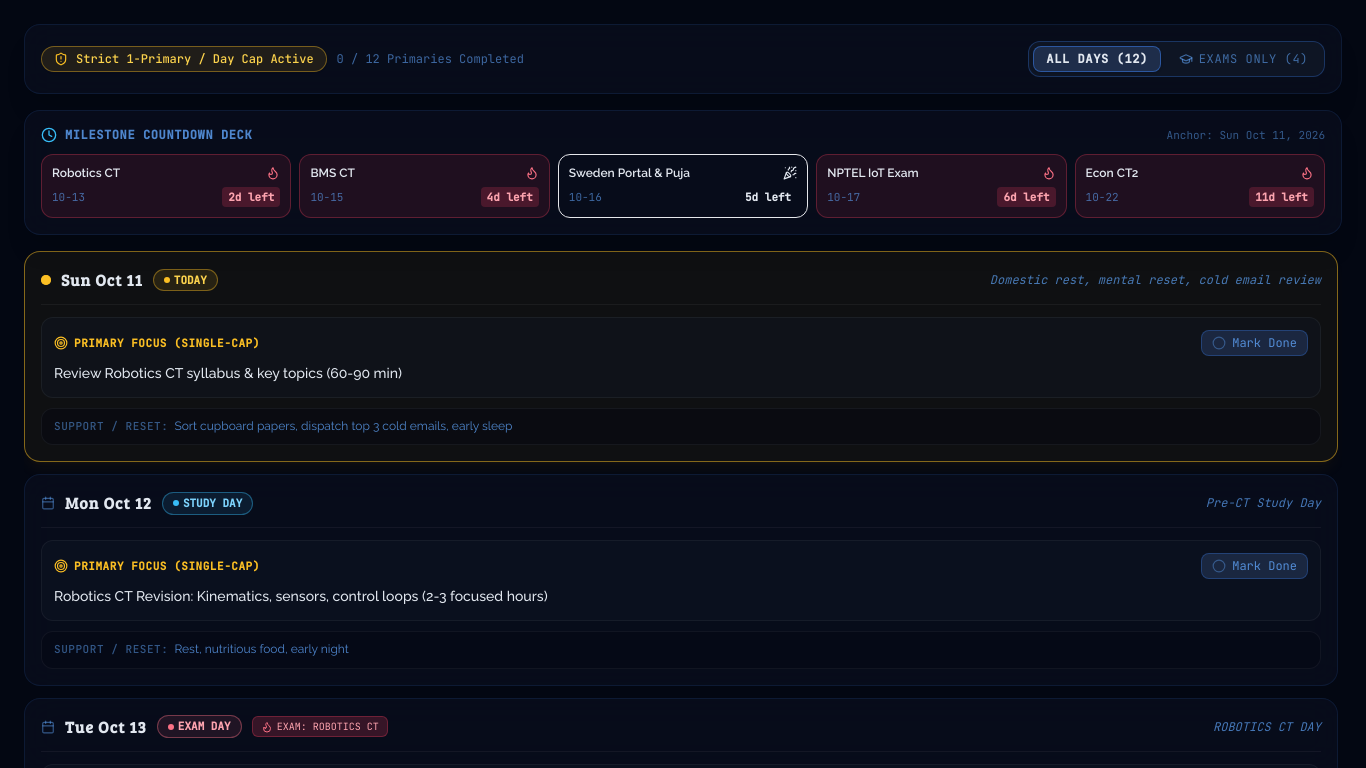
Scenario: BlueprintView and blueprintSchedule › filters schedule by Exams Only and reverts to All Days
Click the button "Exams Only (4)". click: (1243, 59)
box: [1167,47,1320,71]
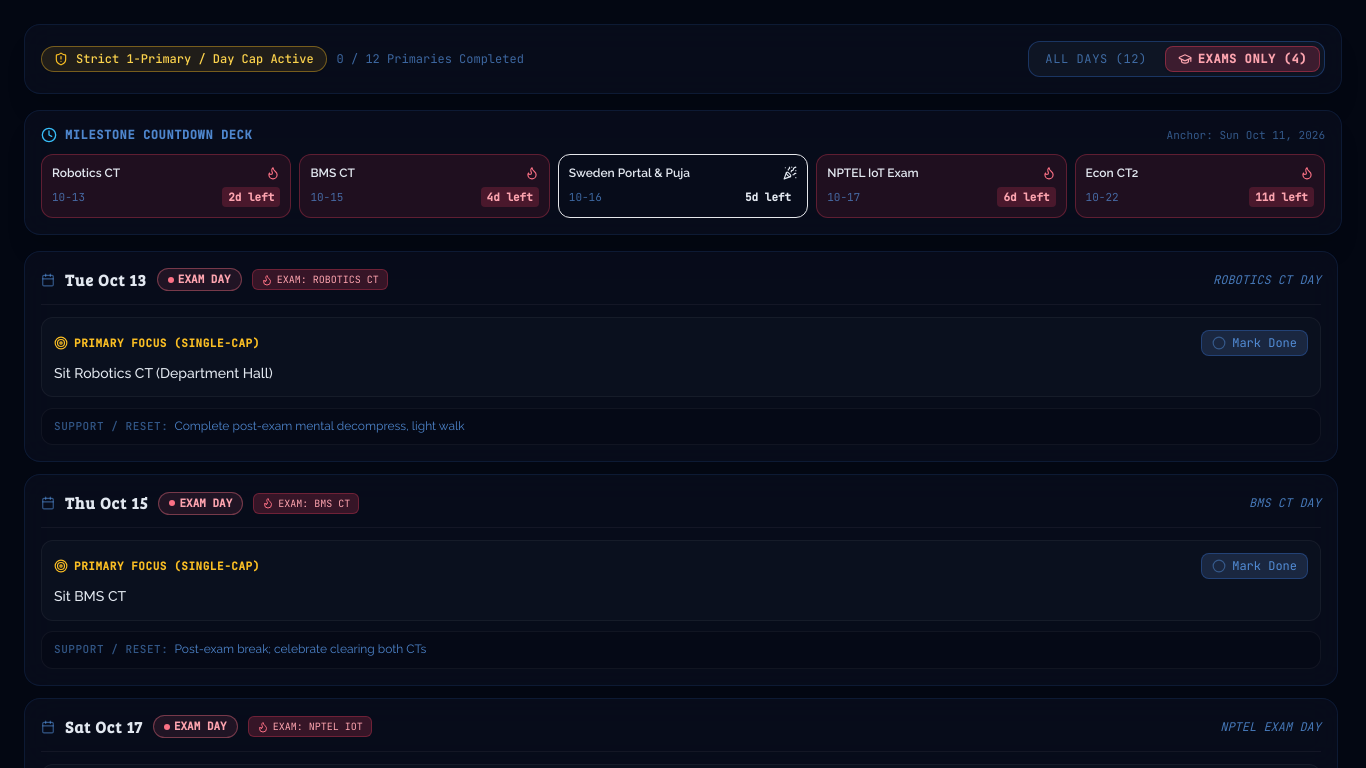
Check: the text "Tue Oct 13" is shown, box [65,268,147,292]
Check: the text "Mon Oct 12" is gone
Click the button "All Days (12)". click: (1096, 59)
box: [1033,47,1159,71]
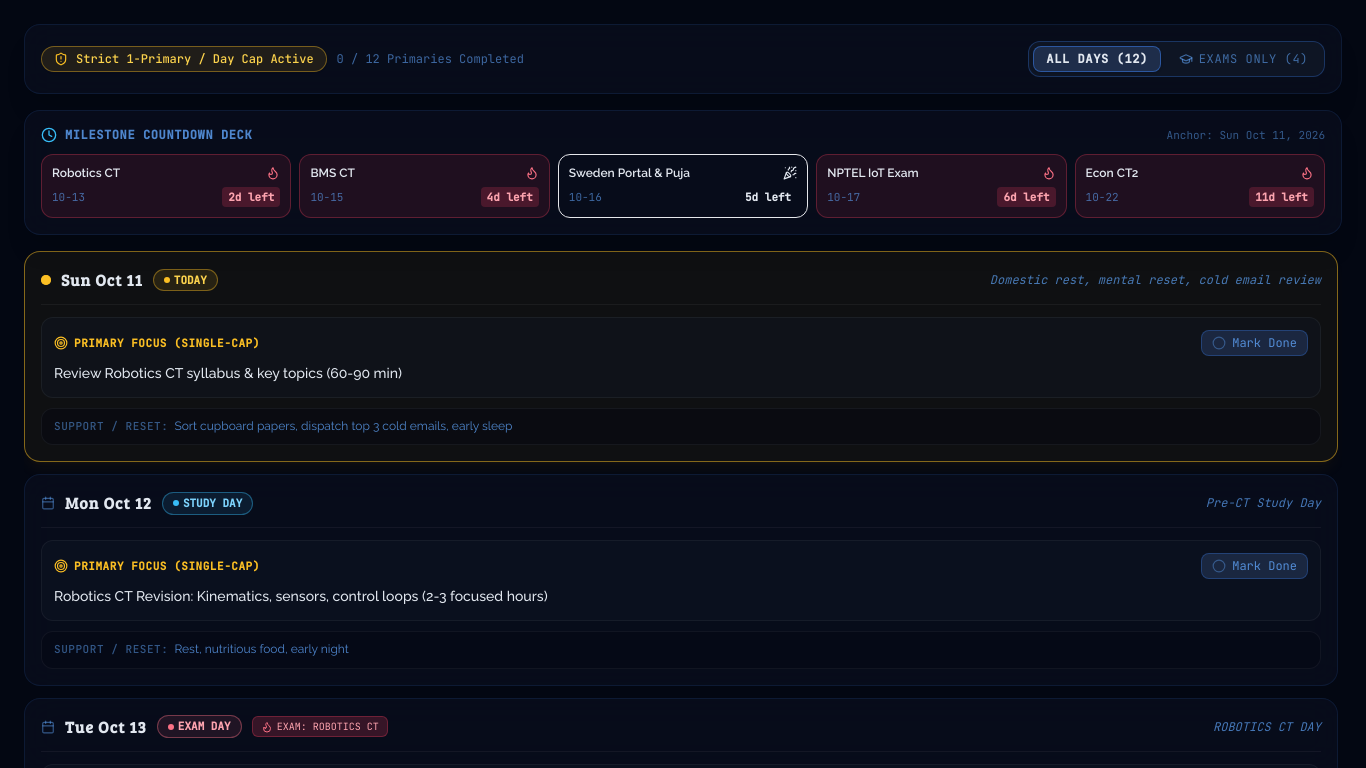
Check: the text "Sun Oct 11" is shown, box [61,268,143,292]
